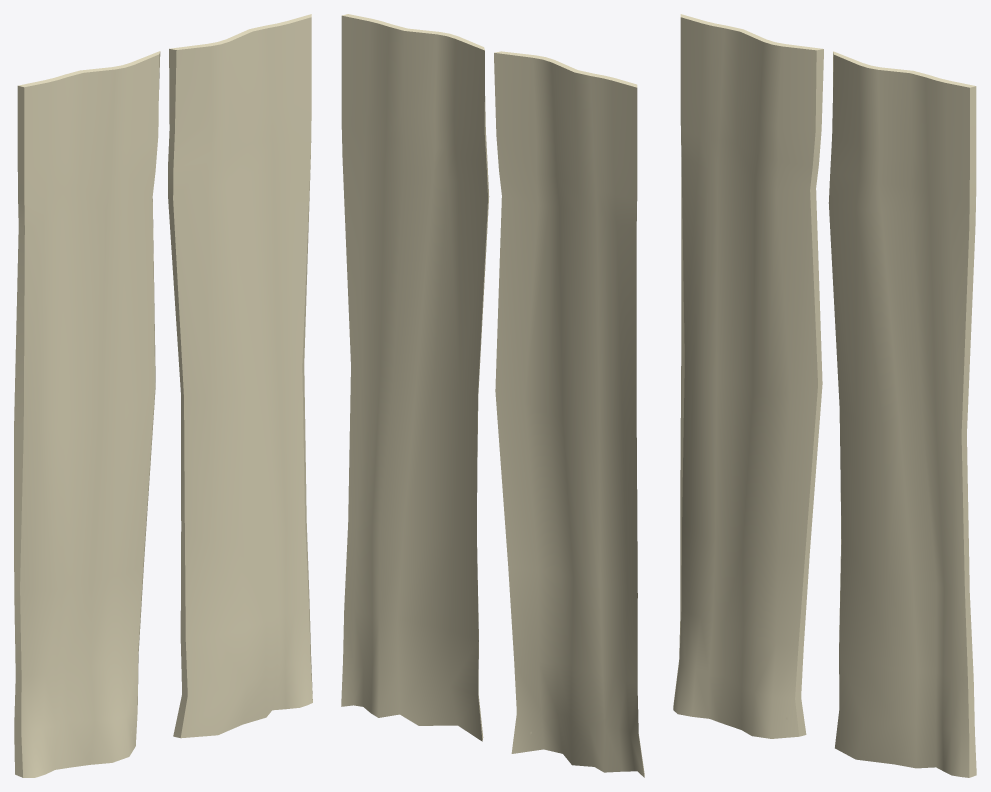
The model's file is curtain 2.FBX.
3 renders of one model, left to right at view 1: azimuth 30°, elevation 25°; view 2: azimuth 150°, elevation 25°; view 3: azimuth 330°, elevation 25°, orthographic.
Visible parts, largest first — view 1: Plane004; view 2: Plane004; view 3: Plane004.
Part boxes in pixels (x1,y1,x2,y2): Plane004: [14, 14, 312, 777]; Plane004: [341, 14, 644, 777]; Plane004: [673, 14, 976, 777].
Size of the model in its own units: 39.09 by 3.75 by 86.44.
